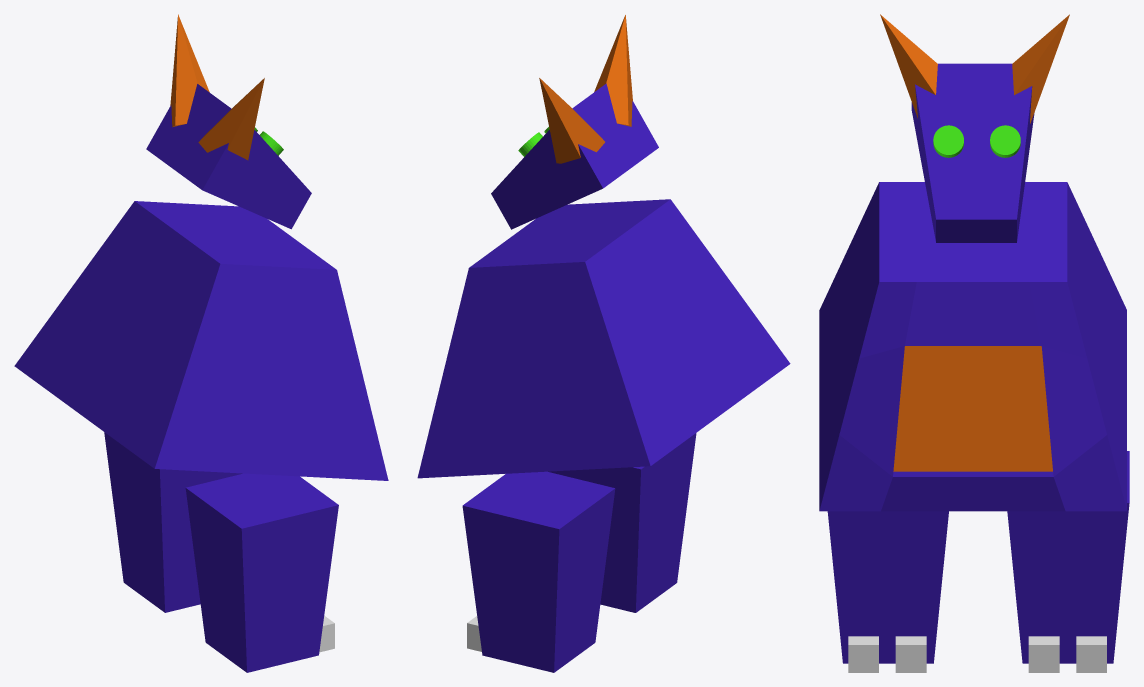
Rendered from friend.glb.
The picture shows the model from 3 angles, left to right: view 1: azimuth 30°, elevation 25°; view 2: azimuth 150°, elevation 25°; view 3: azimuth 270°, elevation 25°; orthographic projection. The views are drawn at different scales.
Visible parts, largest first — view 1: Cube, Cube.003, Cube.002, Cube.001, Cone, Cone.001; view 2: Cube, Cube.002, Cube.003, Cube.001, Cone.001, Cone; view 3: Cube, Cube.001, Cube.002, Cube.003, Cone.001, Cone, Cube.005, Cube.007, Cube.004, Cube.006, Cylinder, Cylinder.001.
Boxes of the visible parts, x1,y1,x2,y2 form: Cube: [14, 201, 388, 480]; Cube.003: [185, 473, 338, 672]; Cube.002: [104, 432, 242, 612]; Cube.001: [146, 84, 311, 229]; Cone: [198, 78, 264, 160]; Cone.001: [170, 14, 209, 126]; Cube: [417, 199, 790, 478]; Cube.002: [462, 471, 615, 672]; Cube.003: [548, 433, 696, 612]; Cube.001: [491, 83, 658, 229]; Cone.001: [539, 78, 604, 163]; Cone: [594, 15, 632, 126]; Cube: [819, 182, 1126, 511]; Cube.001: [911, 63, 1034, 242]; Cube.002: [1007, 451, 1129, 663]; Cube.003: [827, 511, 948, 663]; Cone.001: [1012, 14, 1069, 123]; Cone: [880, 14, 937, 118]; Cube.005: [895, 636, 926, 672]; Cube.007: [1028, 636, 1059, 672]; Cube.004: [848, 636, 878, 672]; Cube.006: [1076, 636, 1106, 672]; Cylinder: [933, 125, 963, 157]; Cylinder.001: [990, 125, 1020, 157].
Size of the model in its own units: 1.96 by 4.52 by 2.02.
